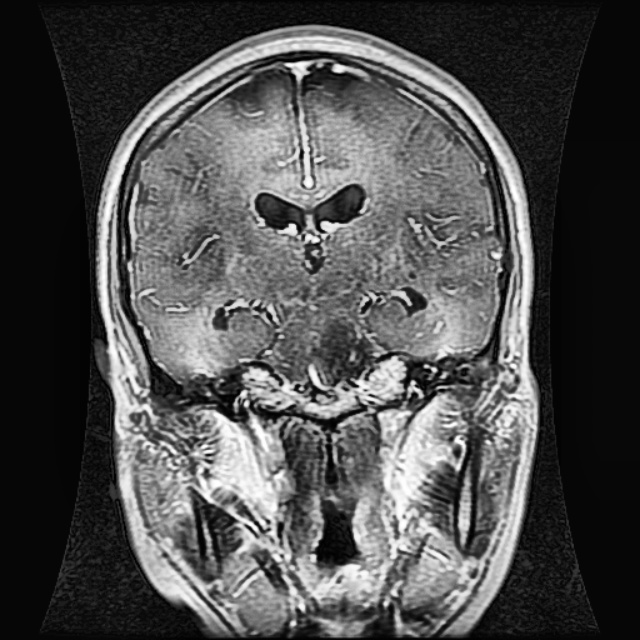Meningioma: (313, 319, 378, 384)
